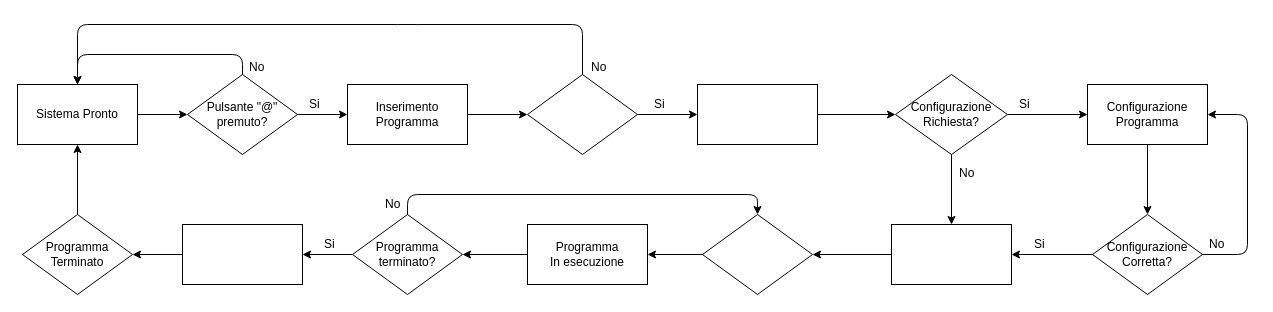
Image size: 1273x312. Some labels were removed from this diagram. Each missing label, with the box of its shape:
Esecuzione Programma: (696, 84, 818, 144)
Programma valido?: (526, 74, 638, 154)
Stampa tempo/punteggio: (702, 214, 812, 294)
Stampa tempo/punteggio finale: (182, 224, 302, 284)
Svolgimento Programma: (890, 224, 1012, 284)
